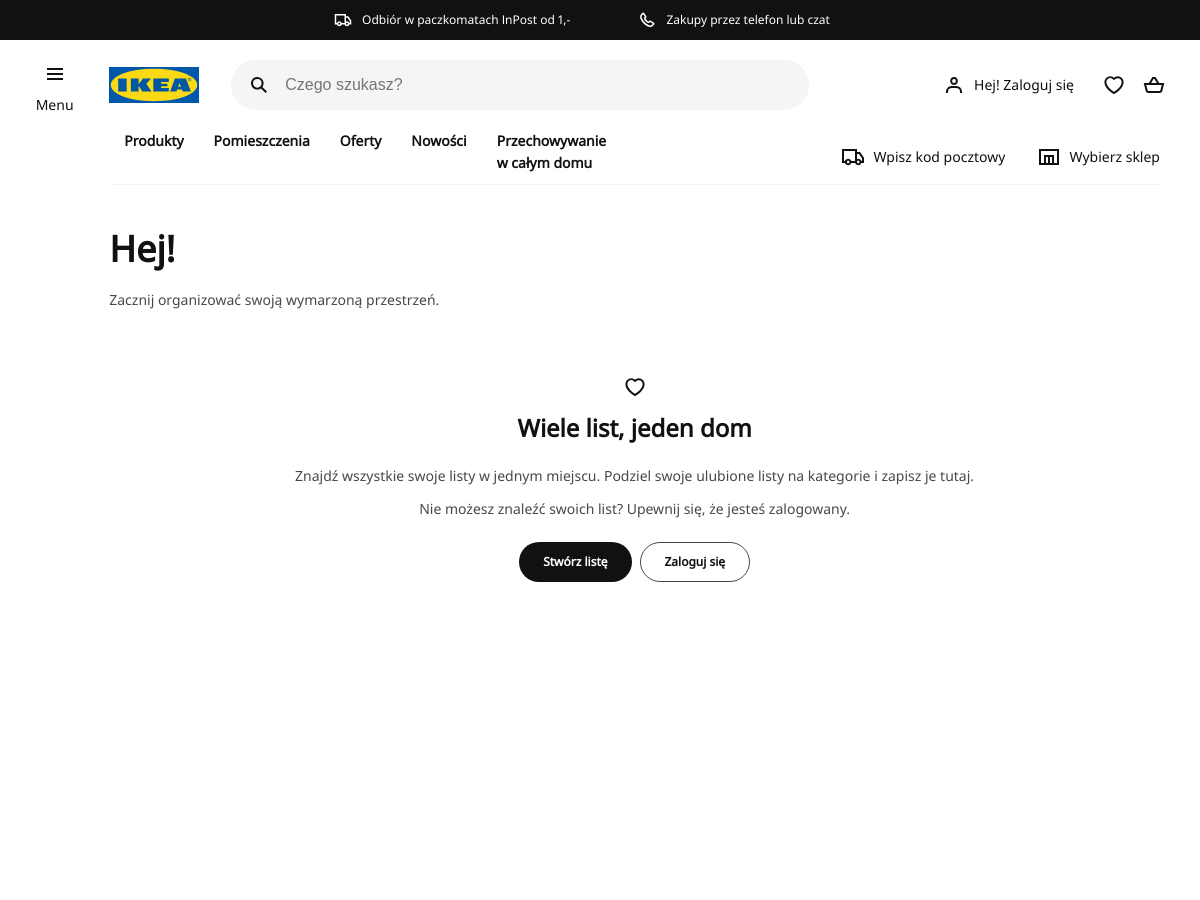
Lists Page › should render page without any lists
Click the button with test id "create-new-list-btn" at point(575, 562), box x1=519 y1=542 x2=631 y2=582
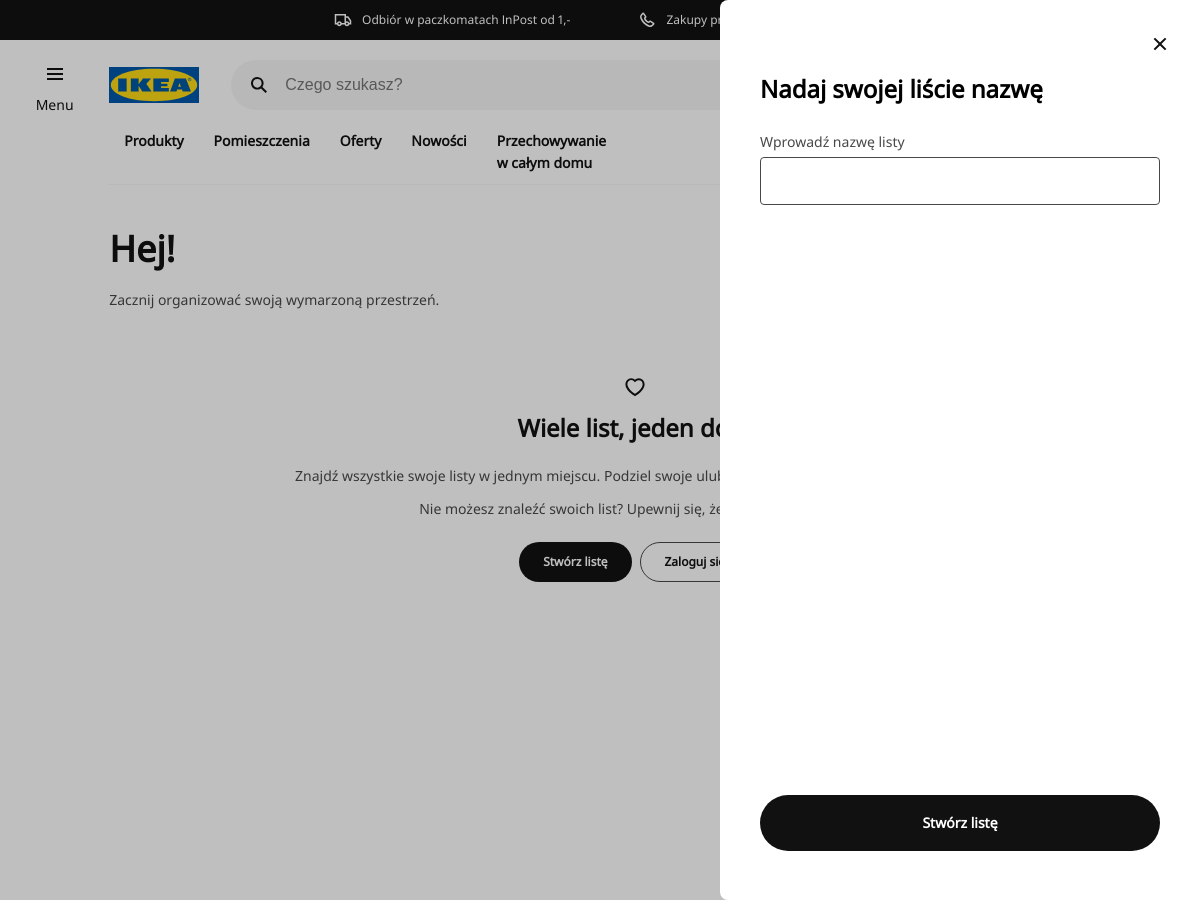
Result: the dialog with test id "modal" is shown at x1=720 y1=0 x2=1199 y2=899
Press Esc
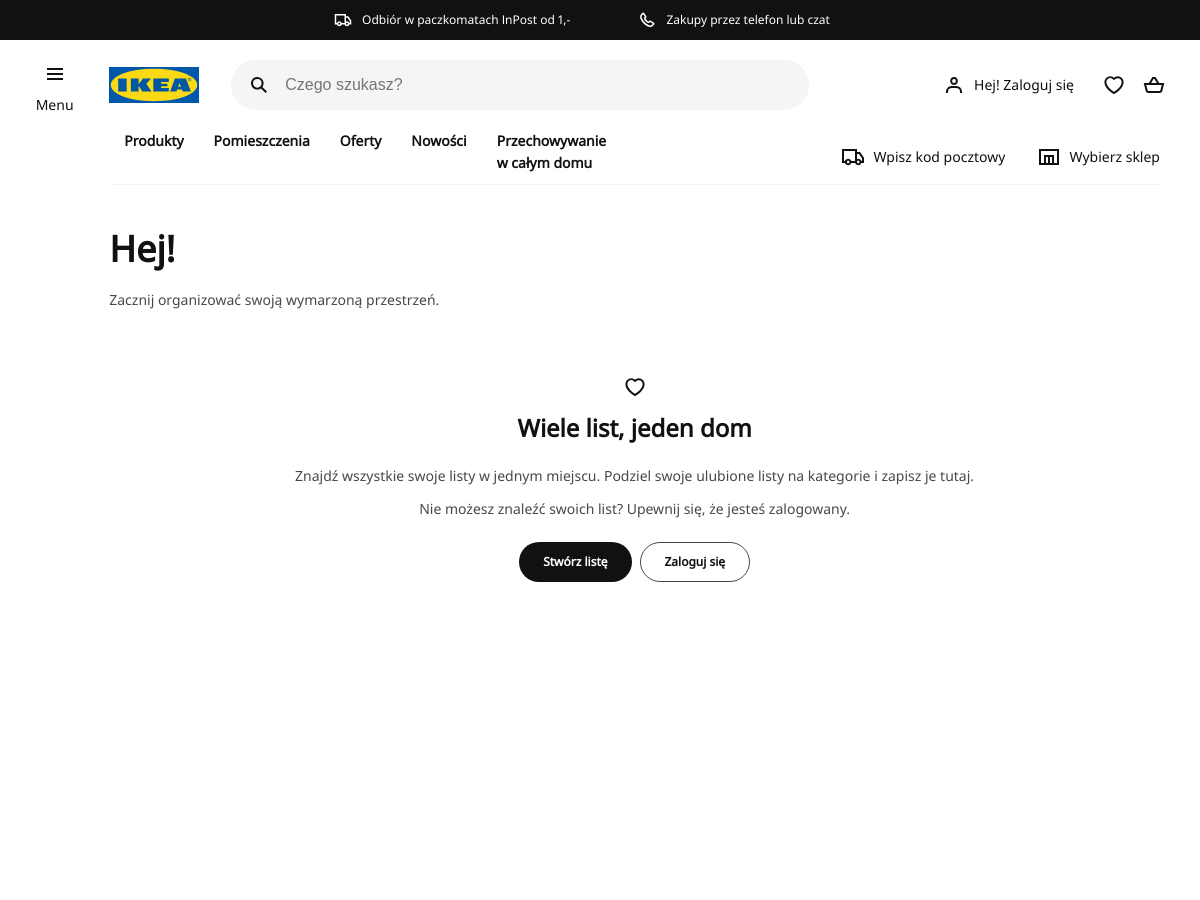
Result: the dialog with test id "modal" is gone
